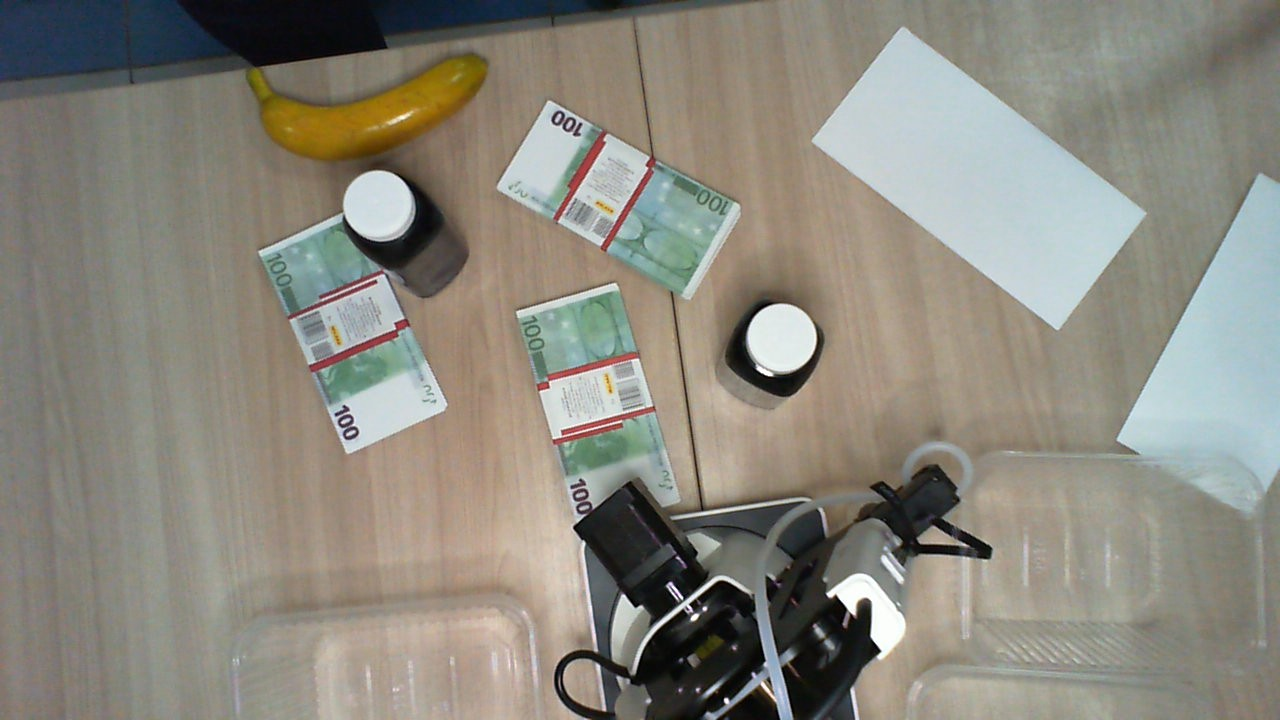banana: (250, 51, 489, 166)
bottle: (730, 298, 822, 390), (343, 170, 425, 265)
convert: (813, 27, 1143, 332), (1115, 173, 1279, 513)
money: (495, 100, 743, 296), (258, 209, 449, 455), (517, 283, 680, 527)
